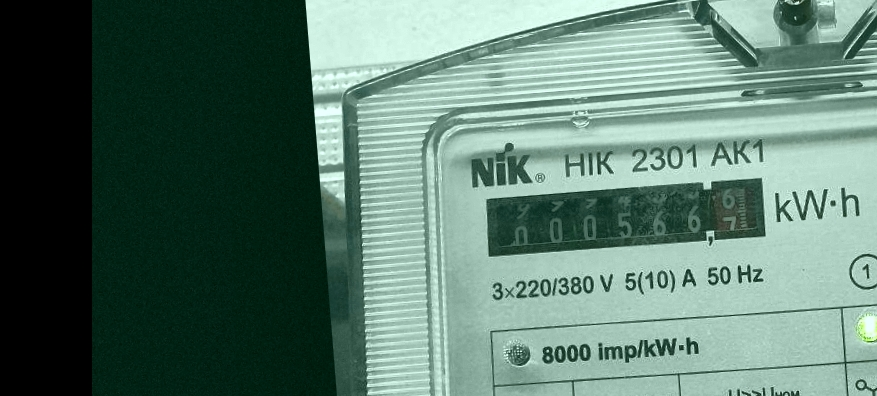0: (581, 211, 601, 241), (547, 213, 566, 243), (511, 220, 532, 245)
5: (615, 208, 636, 238)
6: (684, 200, 705, 233), (648, 206, 670, 236), (721, 185, 739, 211)
7: (722, 213, 739, 232)
9: (513, 198, 533, 219)
screen: (475, 167, 774, 266)
